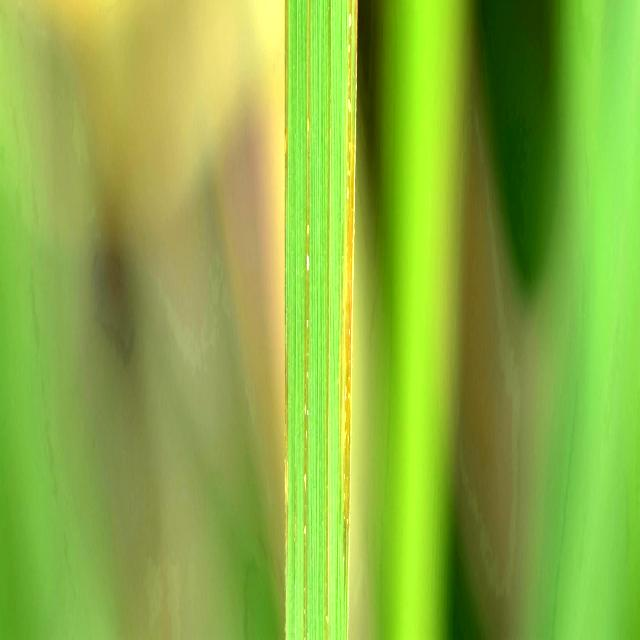BLS: (338, 0, 357, 610), (304, 0, 310, 637), (325, 64, 331, 636), (286, 0, 289, 198)
